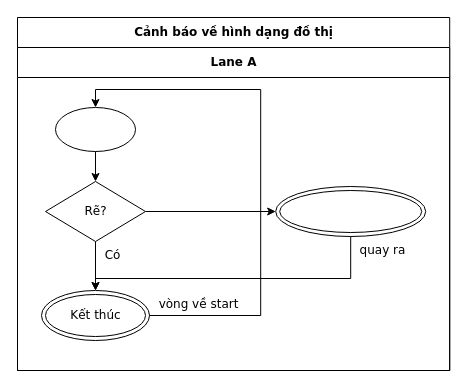
Image size: 468x388. Some labels were removed from this diagram. Here are the shapes that lost their labels. From the top down, the box of each, then its label:
(54, 106, 136, 152): Vào
(275, 186, 426, 236): Kết thúc sớm
